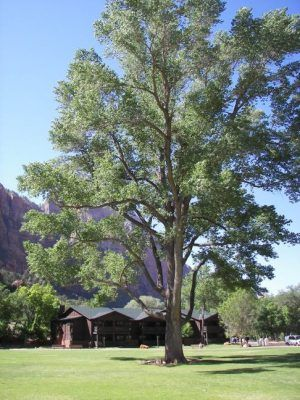tree: (15, 1, 300, 362)
